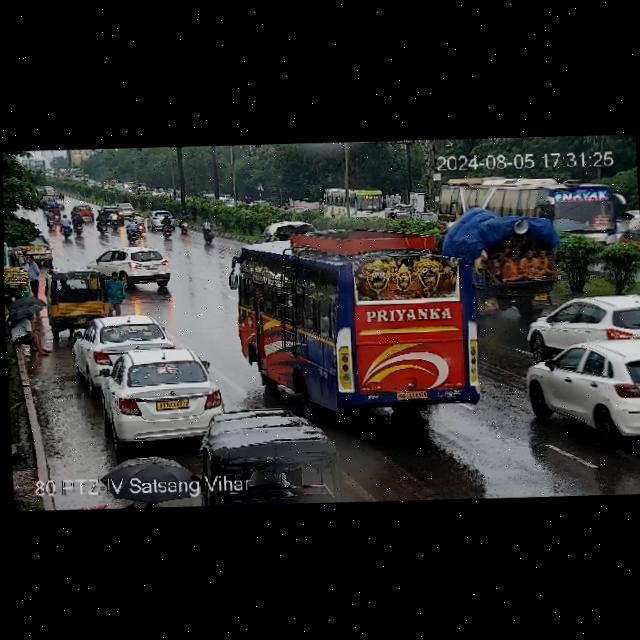bus: (222, 215, 480, 434), (438, 177, 625, 245), (323, 186, 391, 226)
car: (89, 338, 229, 447), (527, 331, 640, 450), (75, 310, 181, 380), (523, 289, 640, 348), (37, 266, 112, 332), (95, 238, 171, 287), (148, 211, 176, 229), (74, 204, 100, 221), (118, 200, 136, 215), (48, 193, 65, 206), (98, 205, 118, 214)
motorcycle: (57, 213, 73, 244), (200, 215, 212, 244), (95, 213, 111, 234), (69, 213, 84, 235), (124, 215, 136, 242), (179, 206, 189, 236), (107, 209, 120, 229), (44, 208, 55, 230), (162, 216, 172, 238), (134, 215, 143, 236)
person: (4, 295, 58, 353), (101, 266, 125, 312)
truck: (462, 206, 558, 317)
